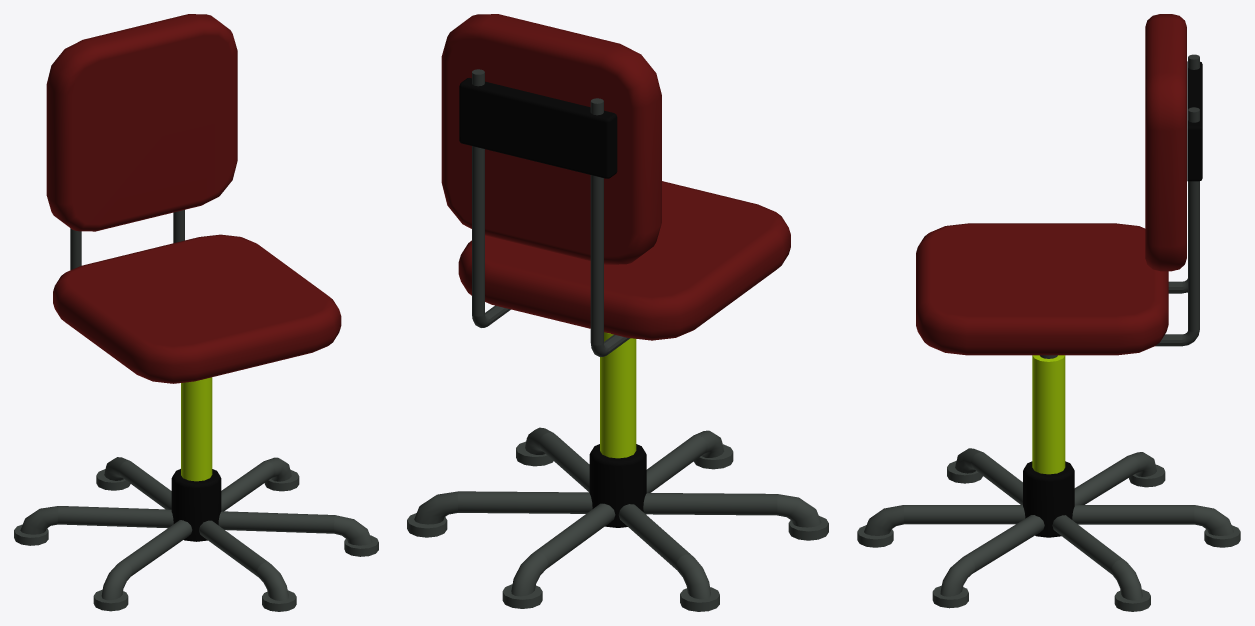
File: SM_Chair.fbx
3 renders of one model, left to right at view 1: azimuth 30°, elevation 25°; view 2: azimuth 150°, elevation 25°; view 3: azimuth 270°, elevation 25°, orthographic. The views are drawn at different scales.
Visible parts, largest first — view 1: polySurface83; view 2: polySurface83; view 3: polySurface83.
Part boxes in pixels (<box>): polySurface83: <box>14,14,378,611</box>; polySurface83: <box>407,14,828,611</box>; polySurface83: <box>857,14,1240,611</box>.
Size of the model in its own units: 89.91 by 144 by 101.
